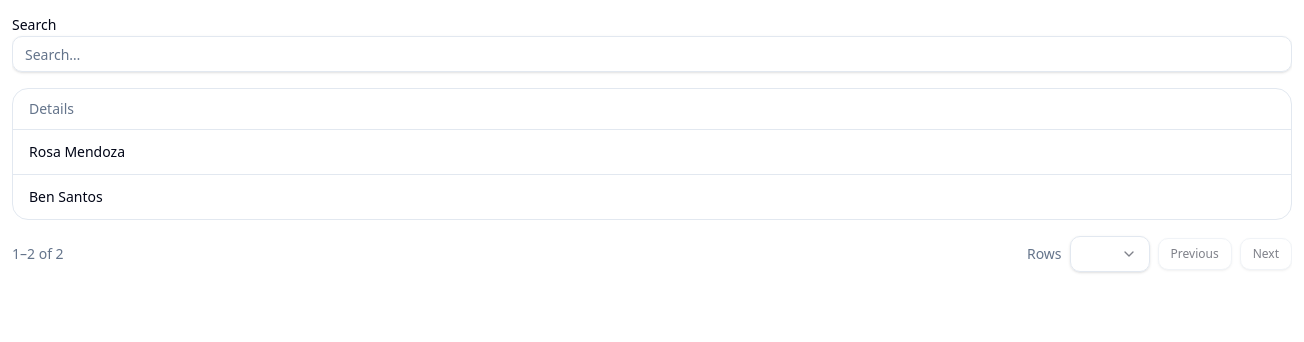
Test: DataTable › clears search from Clear
The image size is (1304, 342).
Step 1. Type "zzz" into the field labelled "Search" → point(652, 54), box [12,36,1292,72]
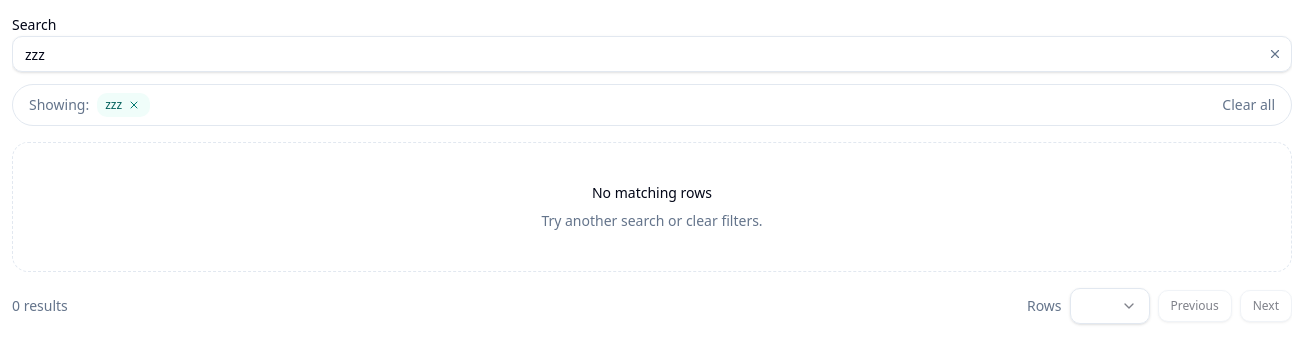
Check: the text "0 results" is shown, box [12,296,68,316]
Step 2. Click the button "Clear all" → point(1249, 105), box [1222,95,1275,115]
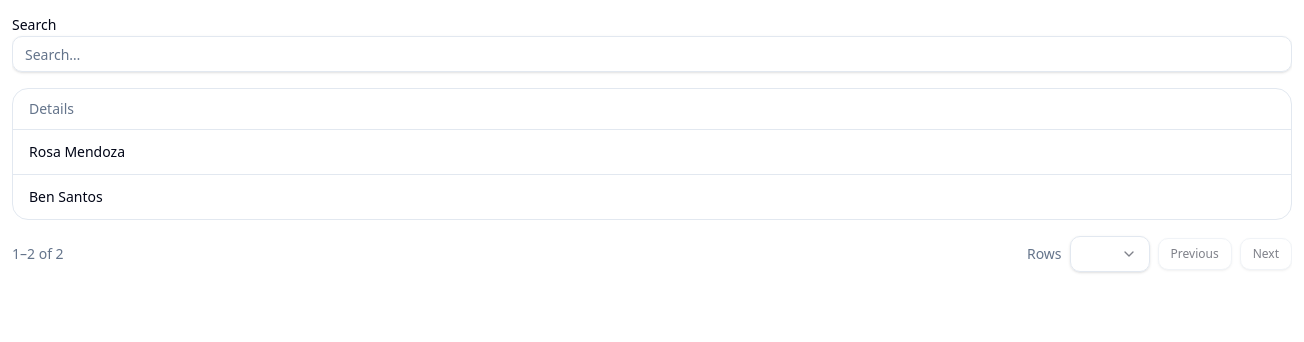
Check: the text "1–2 of 2" is shown, box [12,244,64,264]
Check: the button "Clear all" is gone
